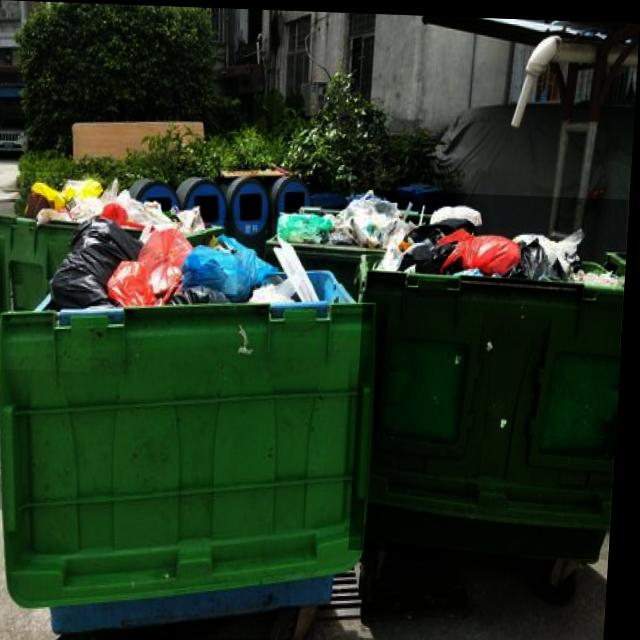overflow: (0, 212, 387, 640), (355, 187, 631, 555), (0, 171, 104, 372)
